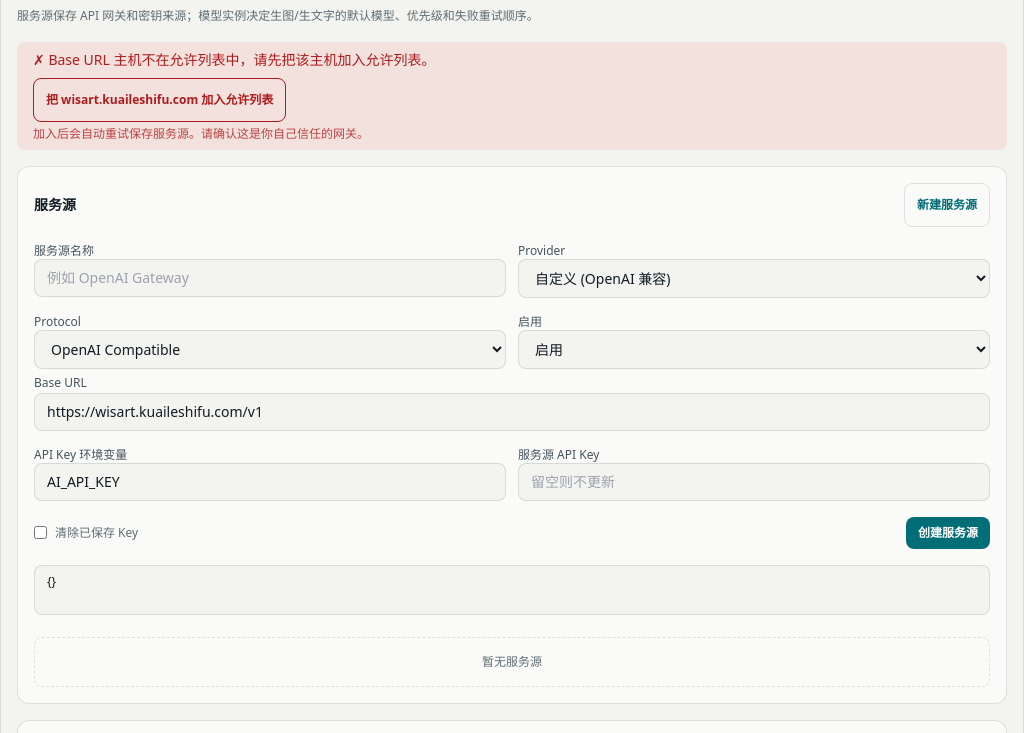
Test: 保存服务源被拒后的一键加入 › 点击后加入允许列表并自动重试保存服务源
Step 1. Click the button "把 wisart.kuaileshifu.com 加入允许列表" → (160,100), box [33,78,286,122]
(page scrolled)
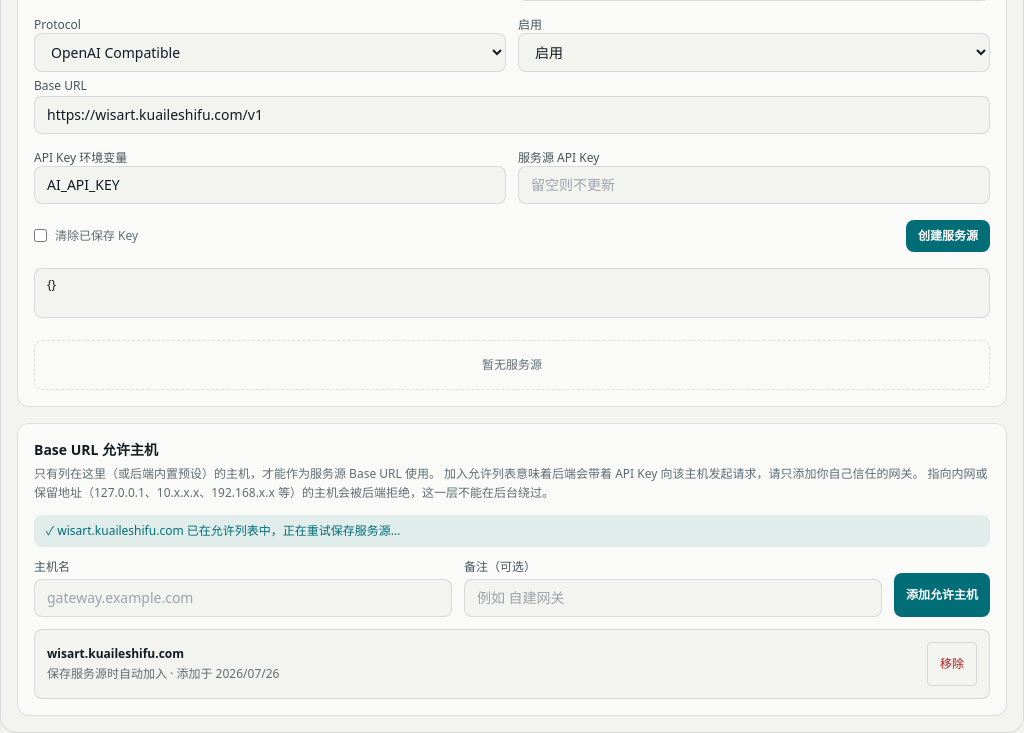
Now the button "把 wisart.kuaileshifu.com 加入允许列表" is gone
Now the text "wisart.kuaileshifu.com" is shown, box [47,644,184,662]
